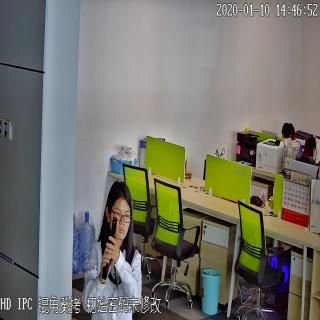gun: (93, 215, 127, 280)
